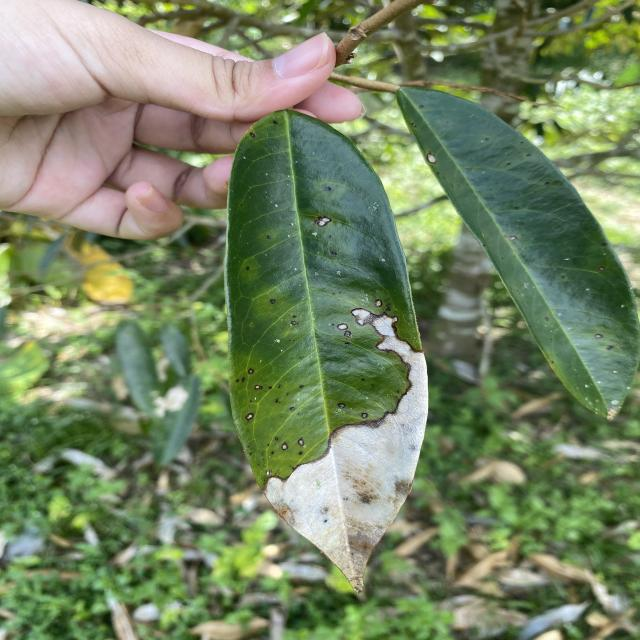Leaf Blight: (222, 290, 457, 624)
